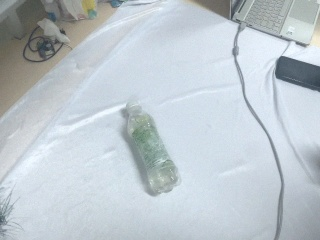bottle: (125, 99, 182, 197)
phone: (274, 55, 320, 102)
